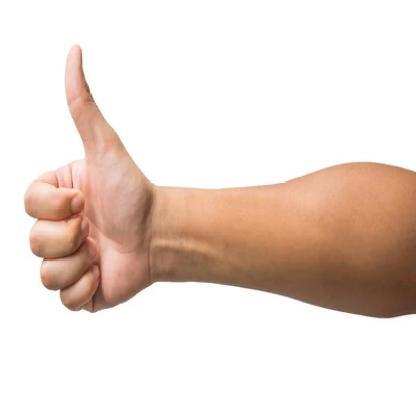thumb_up: (20, 43, 166, 318)
